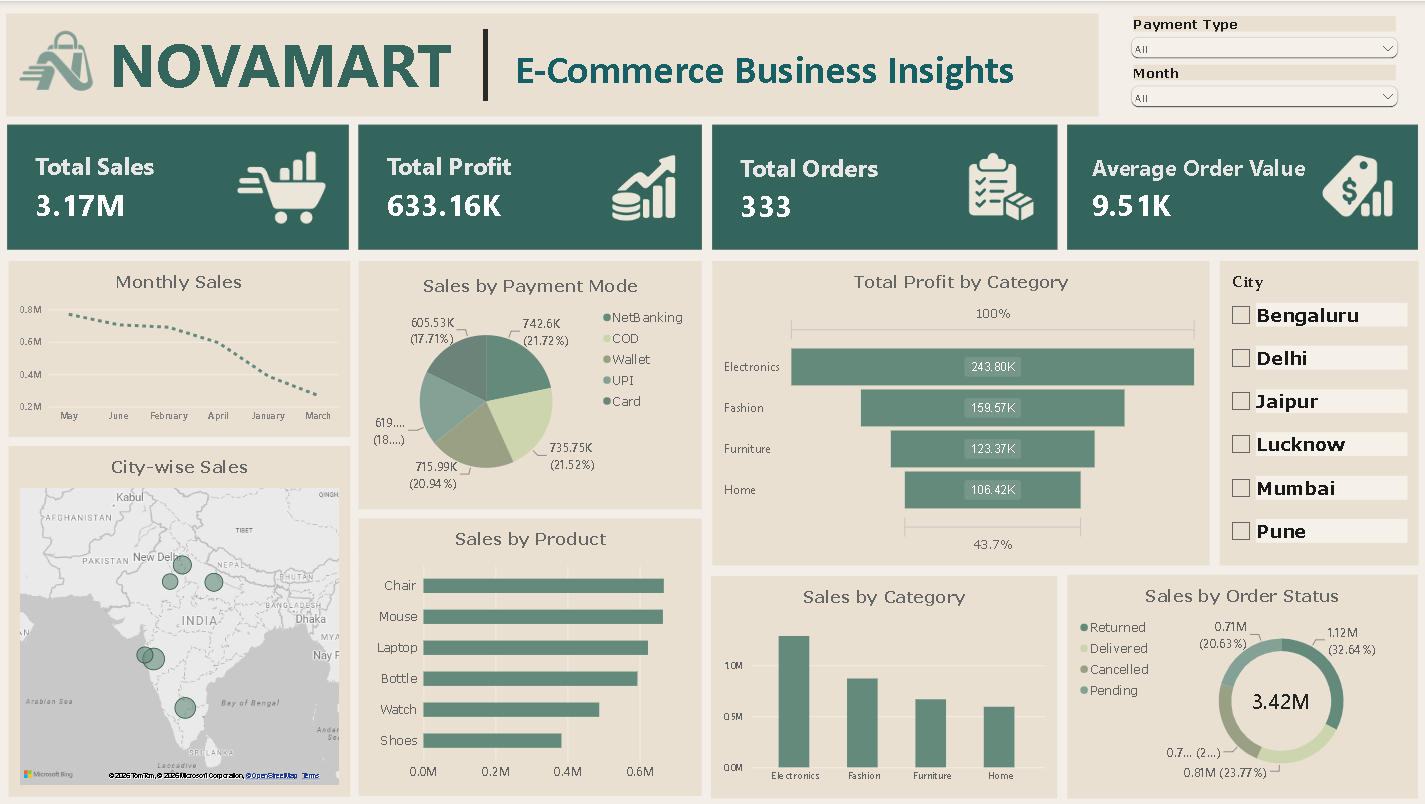

This screenshot's page, from the dashboard's own definition file:
{"tool":"powerbi","page":{"name":"Page 1","canvas":[1920,1080],"ordinal":0},"visuals":[{"type":"shape","box":[14,16,1464,138],"z":0},{"type":"shape","box":[1436.2,166.2,470,167.5],"z":1000},{"type":"shape","box":[960,166.2,462.5,167.5],"z":2000},{"type":"shape","box":[486.2,166.2,460,167.5],"z":3000},{"type":"shape","box":[15,166.2,457.5,167.5],"z":4000},{"type":"shape","box":[16,348,458,236],"z":5000},{"type":"shape","box":[16,596,458,470],"z":6000},{"type":"shape","box":[1640,348.3,266.7,408.3],"z":7000},{"type":"shape","box":[1436,768,470,300],"z":8000},{"type":"shape","box":[485.7,348.6,460,332.9],"z":9000},{"type":"shape","box":[960,348.3,666.7,408.3],"z":10000},{"type":"textbox","box":[616,18,764,140],"z":11000},{"type":"textbox","box":[150,30,465,135],"z":12000},{"type":"shape","box":[486,694,460,372],"z":13000},{"type":"cardVisual","fields":{"Data":["DAX Measures.Total Sales"]},"box":[36.7,165,268,168],"z":14000},{"type":"cardVisual","fields":{"Data":["DAX Measures.Total Profit"]},"box":[508.3,165,290,168],"z":15000},{"type":"cardVisual","fields":{"Data":["DAX Measures.Total Orders"]},"box":[981.7,166.7,278,168],"z":16000},{"type":"cardVisual","fields":{"Data":["DAX Measures.Average Order Value"]},"box":[1451.7,166.7,347.5,167.5],"z":17000},{"type":"lineChart","title":"Monthly Sales","fields":{"Category":["ecommerce orders.Month"],"Y":["Sum(ecommerce orders.Sales)"]},"box":[16,348,458,236],"z":18000},{"type":"barChart","title":"Sales by Product","fields":{"Category":["ecommerce orders.Product"],"Y":["Sum(ecommerce orders.Sales)"]},"box":[486,694,460,372],"z":19000},{"type":"map","title":"City-wise Sales","fields":{"Category":["ecommerce orders.City"],"Size":["Sum(ecommerce orders.Sales)"]},"box":[16,596,458,470],"z":20000},{"type":"donutChart","title":"Sales by Order Status","fields":{"Category":["ecommerce orders.Order_Status"],"Y":["Sum(ecommerce orders.Sales)"]},"box":[1436,768,470,298],"z":21000},{"type":"funnel","title":"Total Profit by Category","fields":{"Category":["ecommerce orders.Category"],"Y":["Sum(ecommerce orders.Profit)"]},"box":[960,348.3,666.7,408.3],"z":22000},{"type":"slicer","fields":{"Values":["ecommerce orders.Month"]},"box":[1516,86,368,72],"z":23000},{"type":"slicer","fields":{"Values":["ecommerce orders.City"]},"box":[1647.8,363.3,243.3,380],"z":24000},{"type":"slicer","fields":{"Values":["ecommerce orders.Payment_Mode"]},"box":[1516,20,368,68],"z":25000},{"type":"shape","box":[958,770,464,298],"z":26000},{"type":"pieChart","title":"Sales by Payment Mode","fields":{"Category":["ecommerce orders.Payment_Mode"],"Y":["Sum(ecommerce orders.Sales)"]},"box":[486,354,460,326],"z":27000},{"type":"columnChart","title":"Sales by Category","fields":{"Category":["ecommerce orders.Category"],"Y":["Sum(ecommerce orders.Sales)"]},"box":[958,770,464,296],"z":28000},{"type":"image","box":[317.8,187.8,128.9,125.6],"z":29000},{"type":"image","box":[815,198,105.6,103.3],"z":30000},{"type":"image","box":[1771.1,183.3,112.2,134.4],"z":31000},{"type":"image","box":[1293.3,185.6,102.2,127.8],"z":32000},{"type":"image","box":[15.2,4.3,126.5,149.6],"z":33000}]}

Visuals, with their boxes in screenshot pixels (x1, y1, x2, y2), scaled from the page's 1920x1080 canvas onto the 1425x804 screenshot:
shape: <region>10, 12, 1097, 115</region>
shape: <region>1066, 124, 1415, 248</region>
shape: <region>712, 124, 1056, 248</region>
shape: <region>361, 124, 702, 248</region>
shape: <region>11, 124, 351, 248</region>
shape: <region>12, 259, 352, 435</region>
shape: <region>12, 444, 352, 794</region>
shape: <region>1217, 259, 1415, 563</region>
shape: <region>1066, 572, 1415, 795</region>
shape: <region>360, 260, 702, 507</region>
shape: <region>712, 259, 1207, 563</region>
textbox: <region>457, 13, 1024, 118</region>
textbox: <region>111, 22, 456, 123</region>
shape: <region>361, 517, 702, 794</region>
cardVisual - DAX Measures.Total Sales: <region>27, 123, 226, 248</region>
cardVisual - DAX Measures.Total Profit: <region>377, 123, 592, 248</region>
cardVisual - DAX Measures.Total Orders: <region>729, 124, 935, 249</region>
cardVisual - DAX Measures.Average Order Value: <region>1077, 124, 1335, 249</region>
"Monthly Sales" lineChart: <region>12, 259, 352, 435</region>
"Sales by Product" barChart: <region>361, 517, 702, 794</region>
"City-wise Sales" map: <region>12, 444, 352, 794</region>
"Sales by Order Status" donutChart: <region>1066, 572, 1415, 794</region>
"Total Profit by Category" funnel: <region>712, 259, 1207, 563</region>
slicer - ecommerce orders.Month: <region>1125, 64, 1398, 118</region>
slicer - ecommerce orders.City: <region>1223, 270, 1404, 553</region>
slicer - ecommerce orders.Payment_Mode: <region>1125, 15, 1398, 66</region>
shape: <region>711, 573, 1055, 795</region>
"Sales by Payment Mode" pieChart: <region>361, 264, 702, 506</region>
"Sales by Category" columnChart: <region>711, 573, 1055, 794</region>
image: <region>236, 140, 332, 233</region>
image: <region>605, 147, 683, 224</region>
image: <region>1314, 136, 1398, 237</region>
image: <region>960, 138, 1036, 233</region>
image: <region>11, 3, 105, 115</region>
